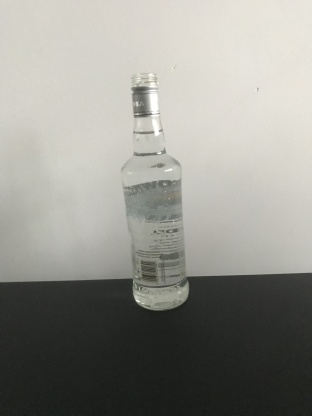nakretka: (129, 72, 161, 119)
